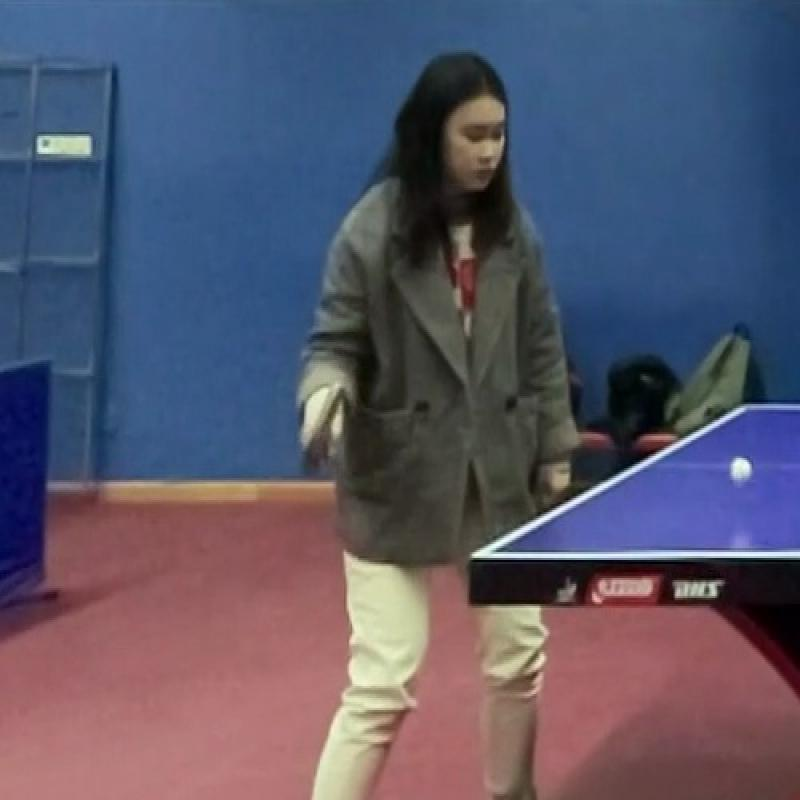bats: (280, 364, 376, 479)
